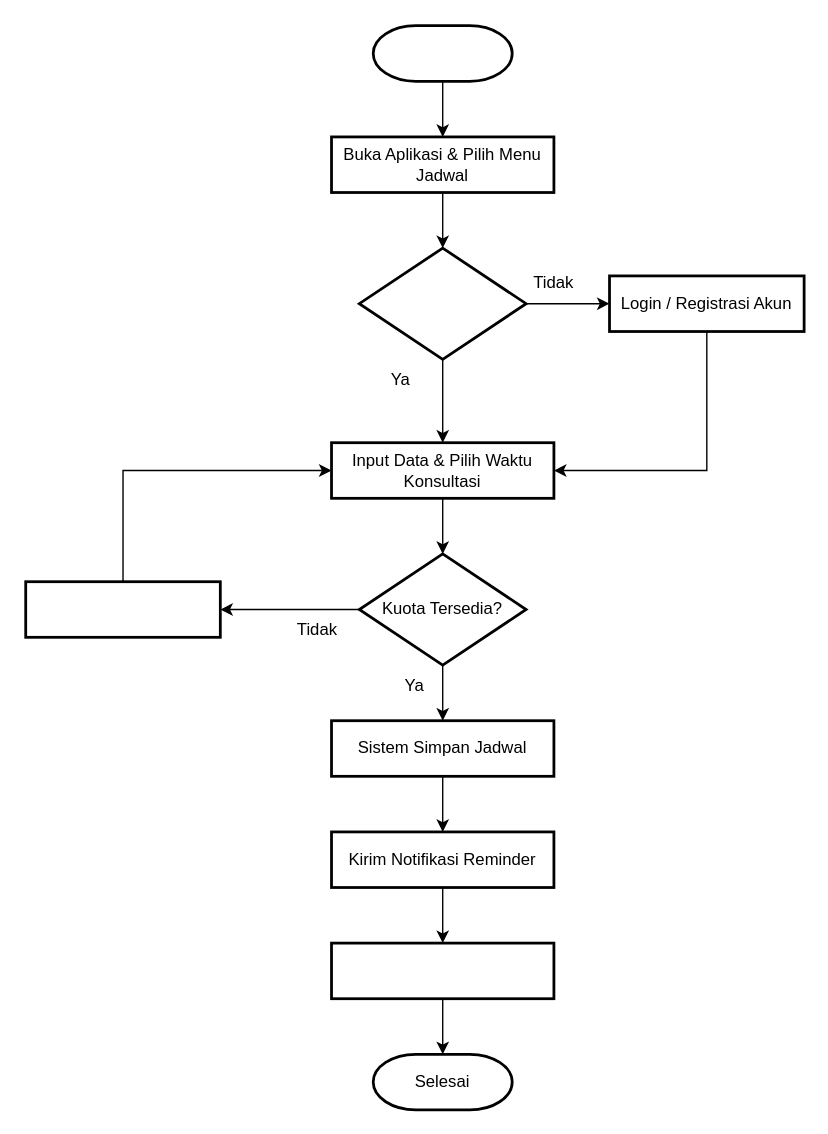
Some shapes in this 828 by 1134 pixel diagram are drawn without their labels. Each missing label, with the centre of its shape:
"Mulai" belongs at point 442,53.
"Sudah Login?" belongs at point 442,303.
"Tampilkan Pesan Error (Kuota Penuh)" belongs at point 122,609.
"Tampilkan Status Layanan di Dashboard" belongs at point 442,970.
